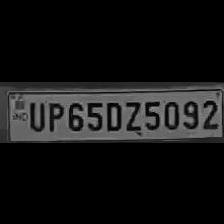0: (160, 96, 180, 130)
2: (199, 96, 219, 130)
5: (84, 97, 104, 131), (142, 96, 160, 130)
6: (64, 98, 82, 132)
9: (180, 95, 198, 129)
D: (103, 97, 123, 131)
P: (44, 98, 64, 132)
U: (24, 98, 44, 132)
Z: (122, 96, 140, 132)
